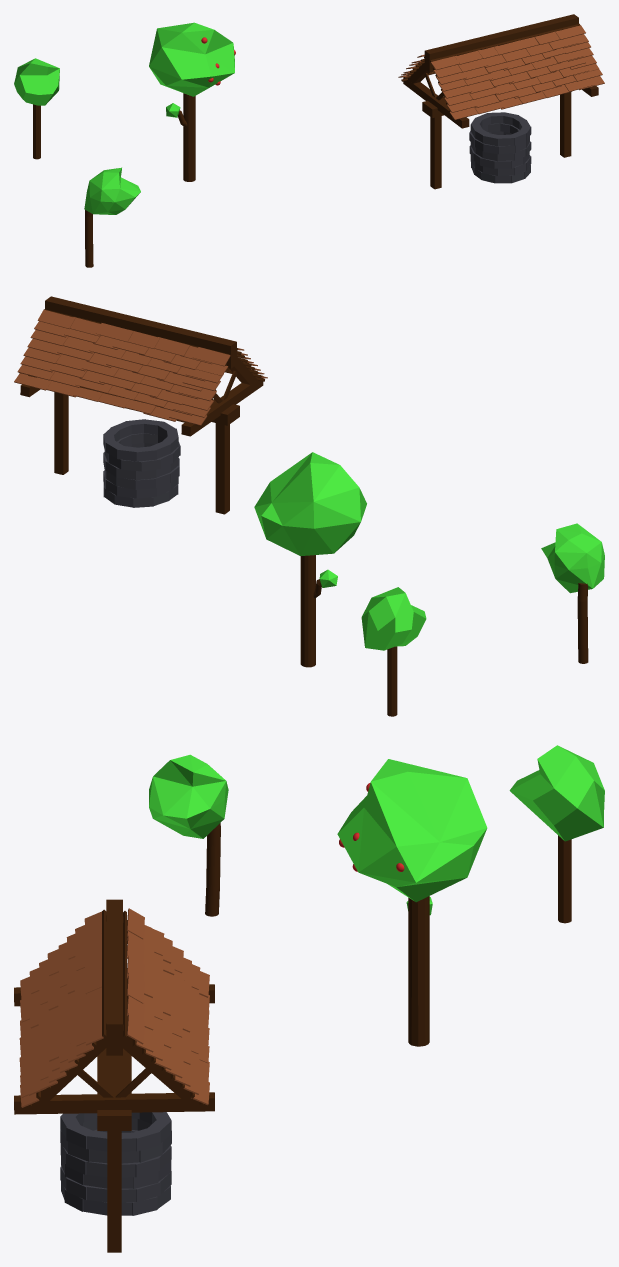
File: well.fbx
3 renders of one model, top to bottom at view 1: azimuth 30°, elevation 25°; view 2: azimuth 150°, elevation 25°; view 3: azimuth 270°, elevation 25°, orthographic. The views are drawn at different scales.
Visible parts, largest first — view 1: Well, Tree2, Tree1, Tree3; view 2: Well, Tree2, Tree1, Tree3; view 3: Well, Tree2, Tree3, Tree1.
Boxes of the visible parts, x1,y1,x2,y2 form: Well: (398,14,604,189); Tree2: (149,22,235,181); Tree1: (84,167,140,267); Tree3: (14,58,59,159); Well: (14,296,267,514); Tree2: (254,452,366,667); Tree1: (541,523,604,663); Tree3: (361,587,426,716); Well: (14,899,214,1252); Tree2: (337,759,487,1046); Tree3: (509,745,604,923); Tree1: (149,754,228,916).
Bounding box in the file's own units: 1295 × 429 × 829.
